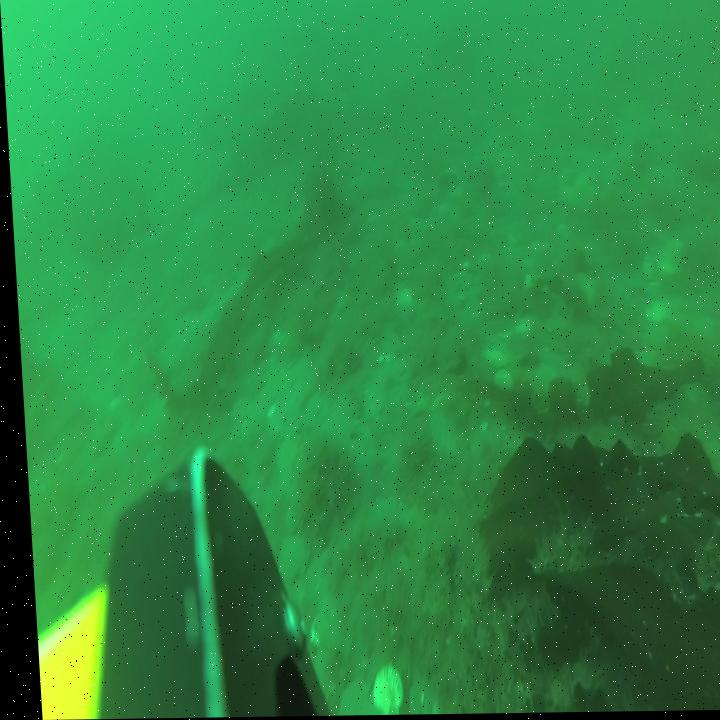scallop: (268, 532, 308, 585), (363, 662, 398, 716), (325, 679, 364, 717), (636, 299, 668, 332), (355, 386, 381, 424), (275, 497, 301, 533), (475, 342, 505, 371), (387, 284, 411, 314), (489, 370, 509, 393)
